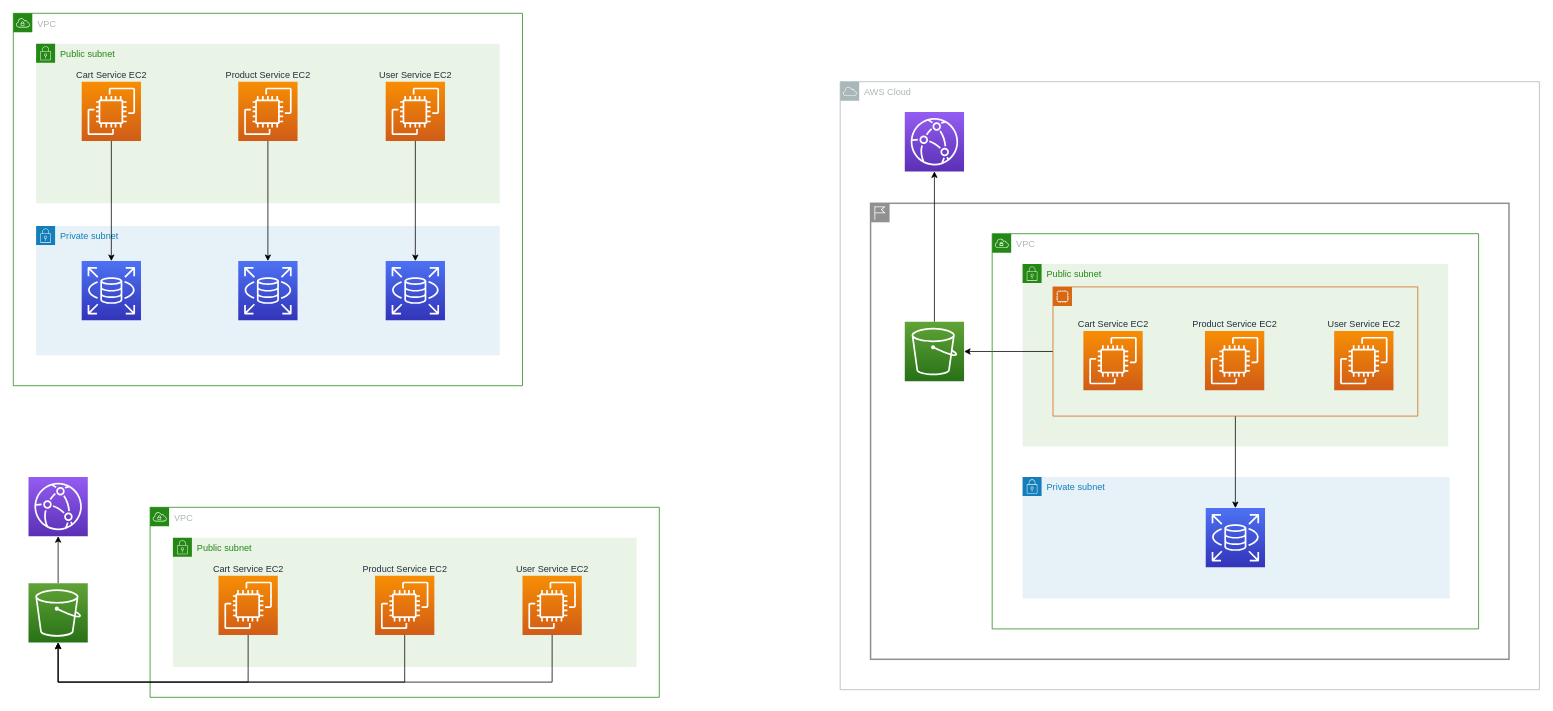
Image size: 1553x711. Some labels were removed from this diagram. The box of each missing label's shape, as (x1, y1, x2, y2) in pixels:
Card Database: (81, 260, 141, 320)
EC2 instance contents: (1052, 286, 1418, 416)
Product Database: (238, 260, 298, 320)
Region: (869, 202, 1509, 660)
User Database: (385, 260, 445, 320)
